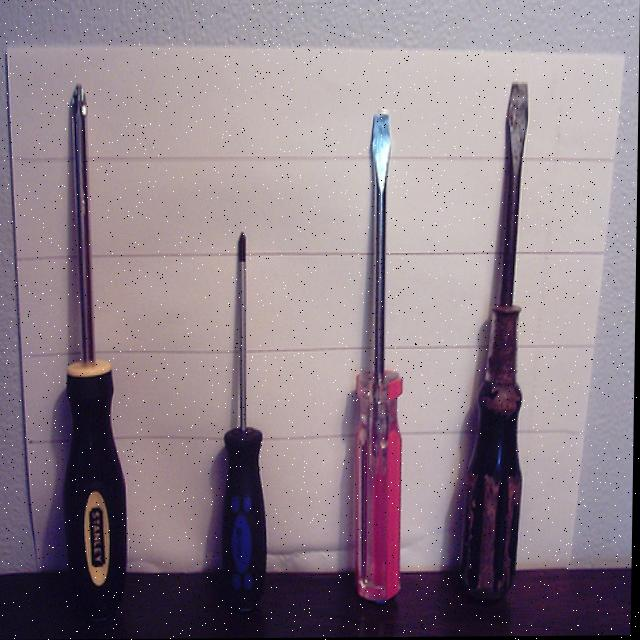Screwdriver: (462, 84, 529, 599), (65, 85, 128, 620), (356, 112, 404, 602), (223, 233, 269, 611)
